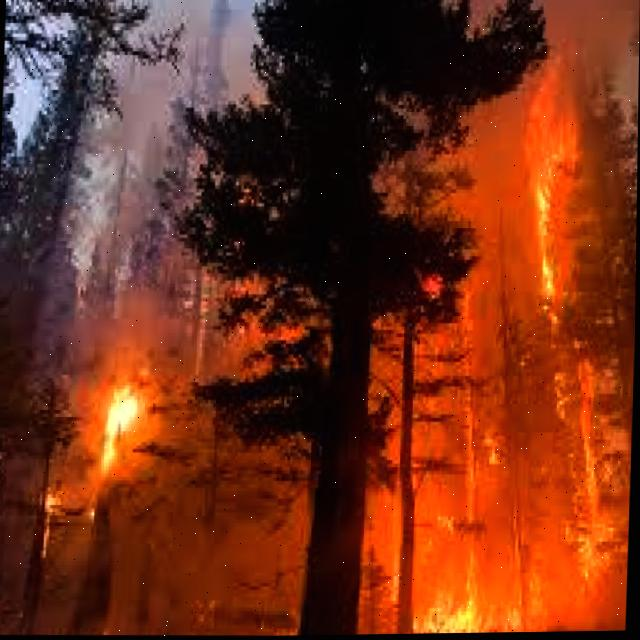fire: (521, 71, 573, 304), (416, 586, 530, 635), (100, 385, 140, 481)
smoke: (443, 113, 549, 588), (147, 430, 279, 636), (99, 74, 188, 345), (551, 377, 634, 634), (546, 0, 640, 68)
